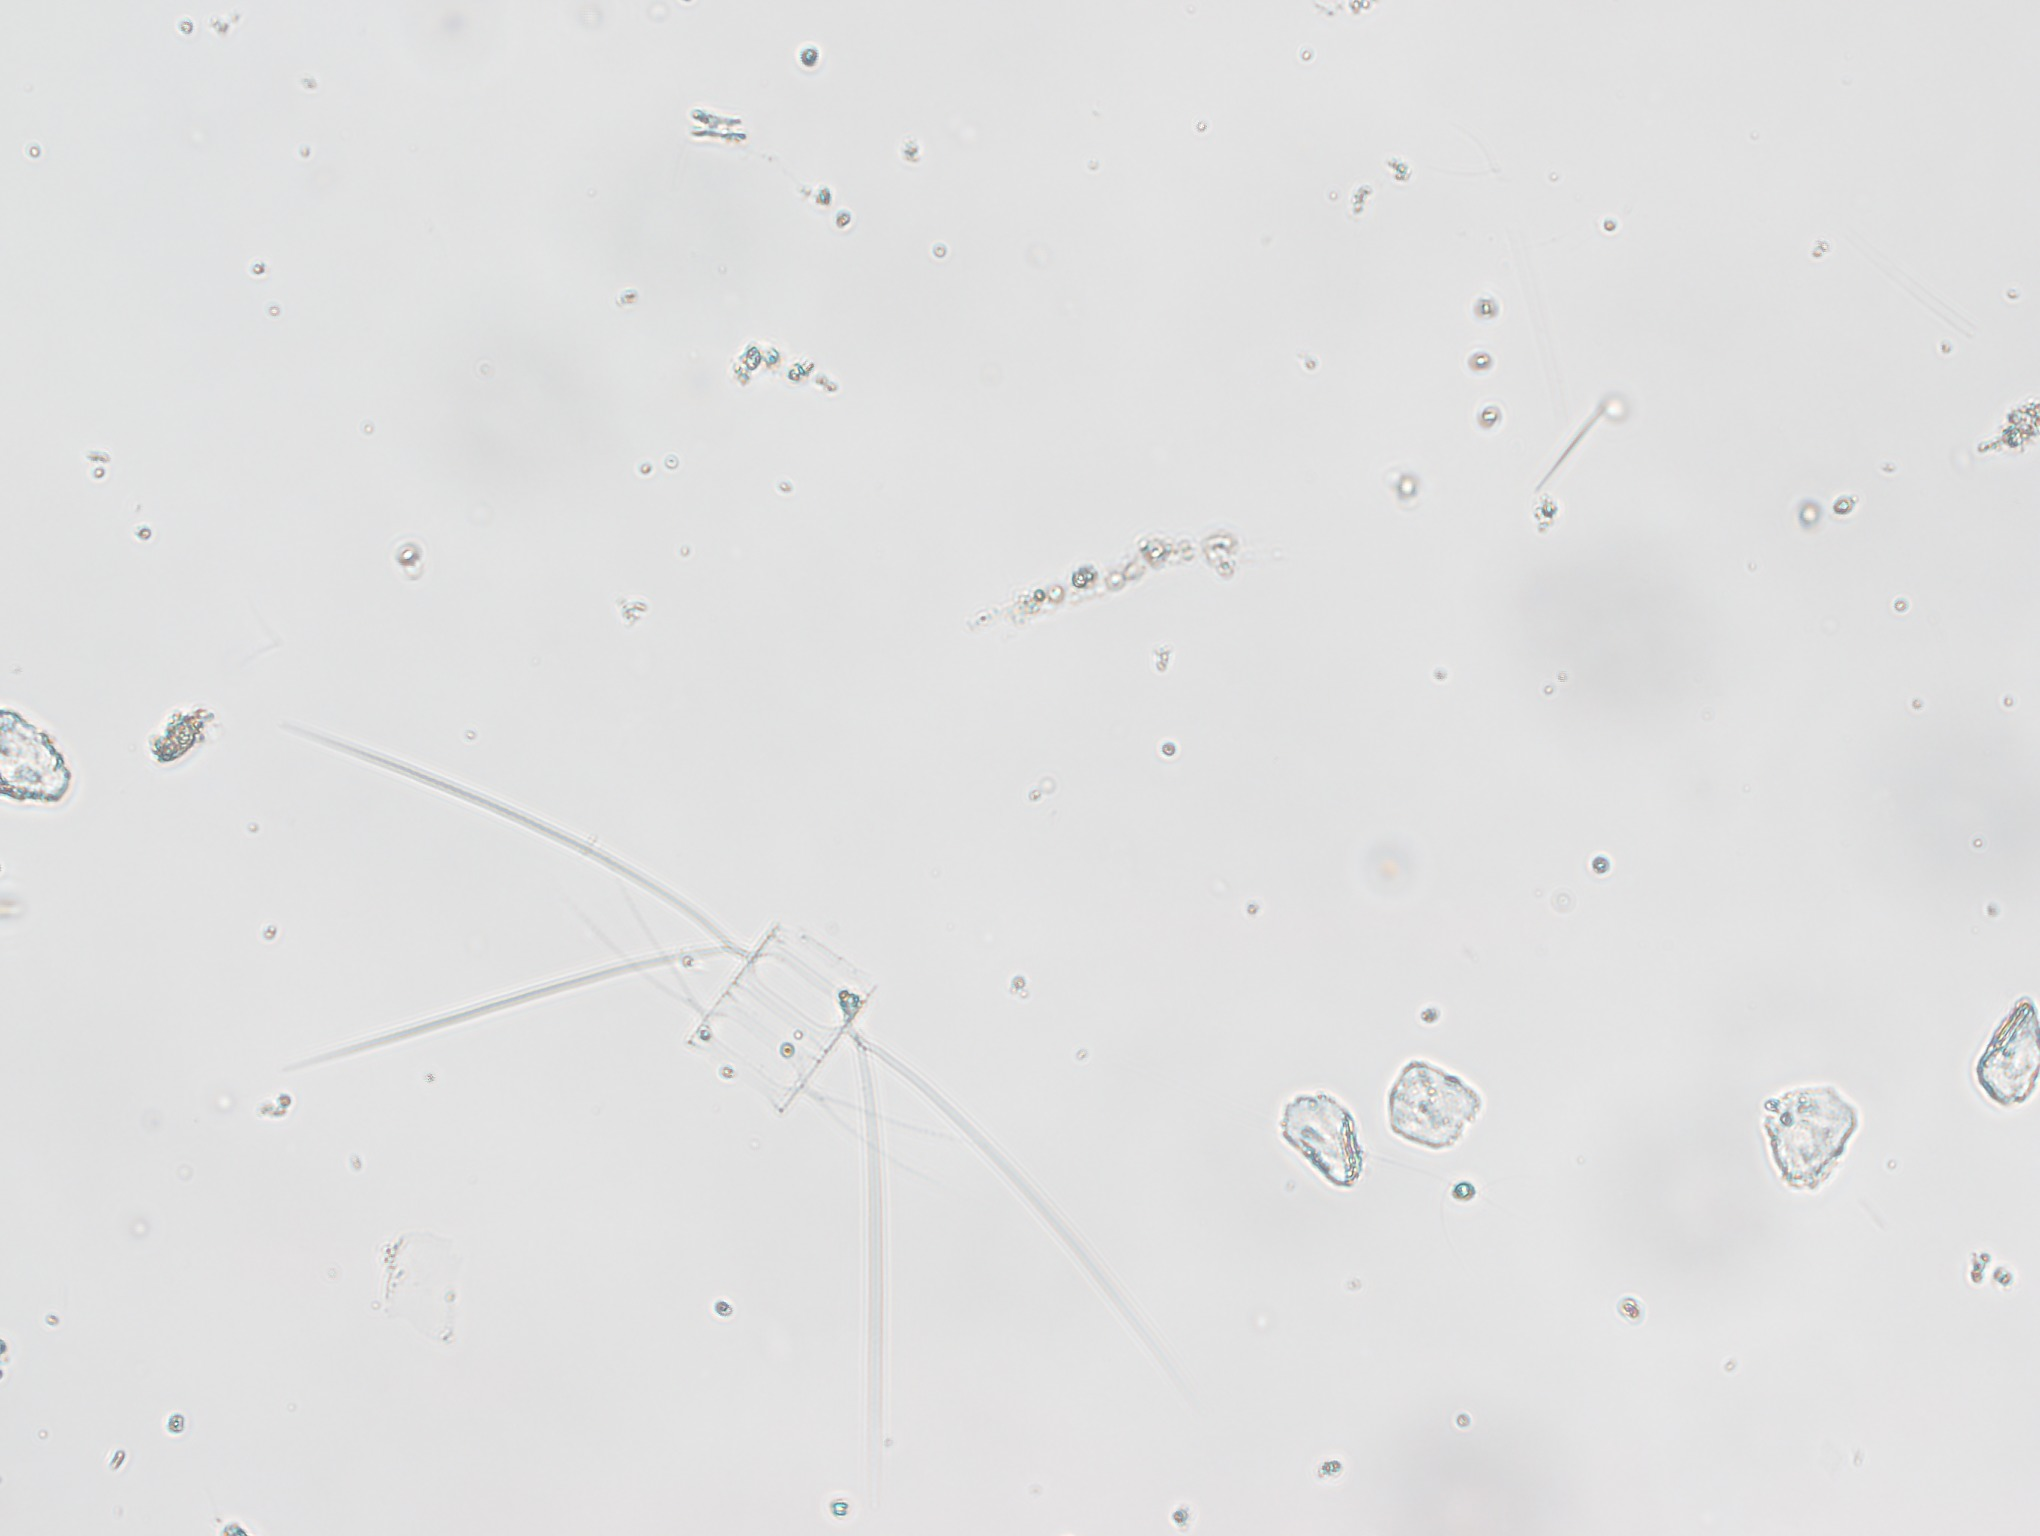chaetoceros: (266, 708, 1203, 1457)
